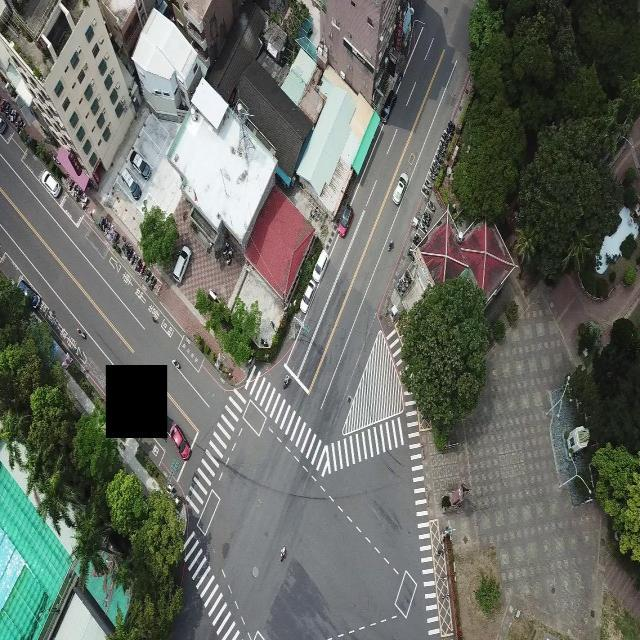bike: (386, 231, 400, 258), (279, 368, 293, 394), (170, 348, 183, 376), (74, 324, 88, 340), (278, 546, 286, 562)
car: (173, 244, 192, 283), (170, 422, 190, 458), (120, 167, 141, 200), (311, 247, 329, 282), (336, 202, 354, 237), (40, 169, 62, 197), (392, 172, 410, 204), (299, 280, 316, 313)
